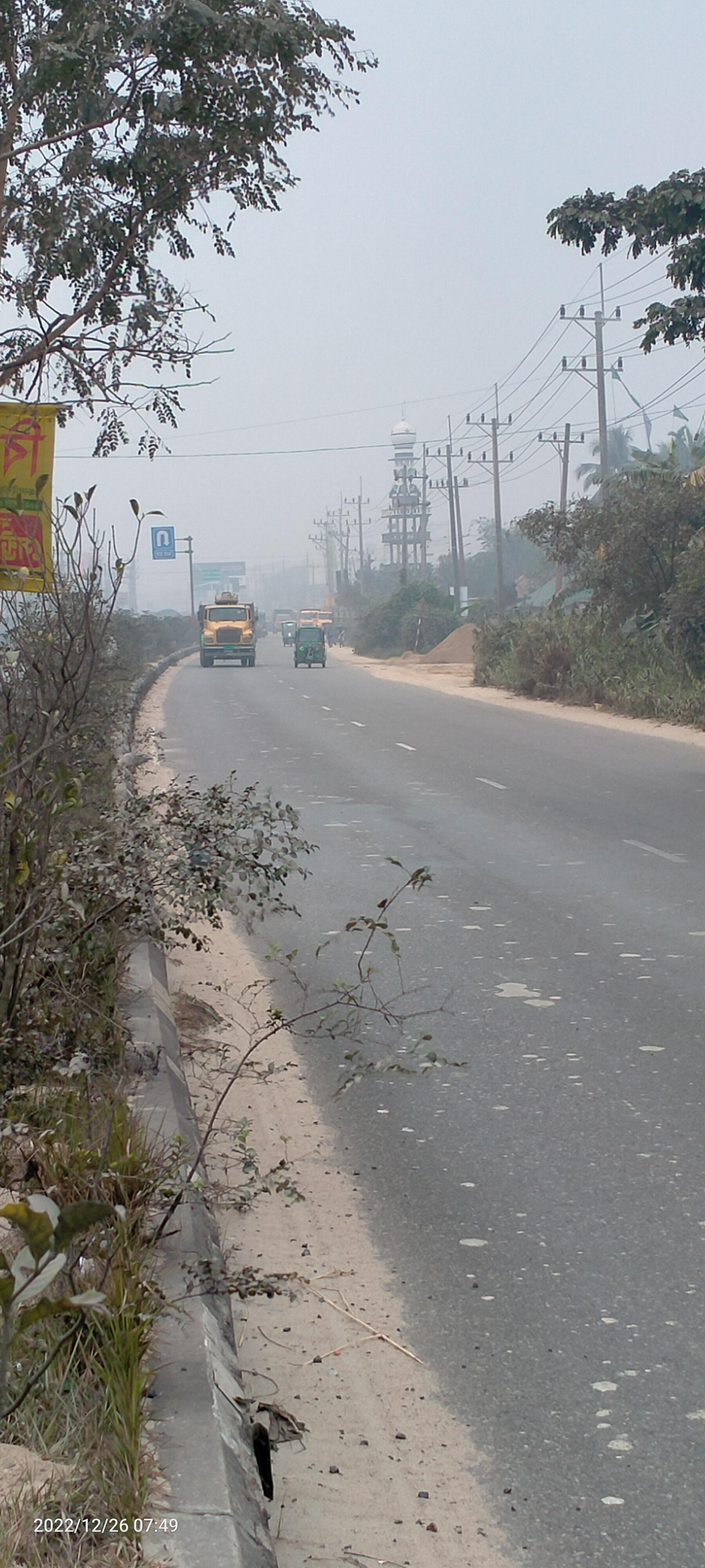Car: (279, 615, 300, 649)
Truck: (190, 587, 266, 674)
